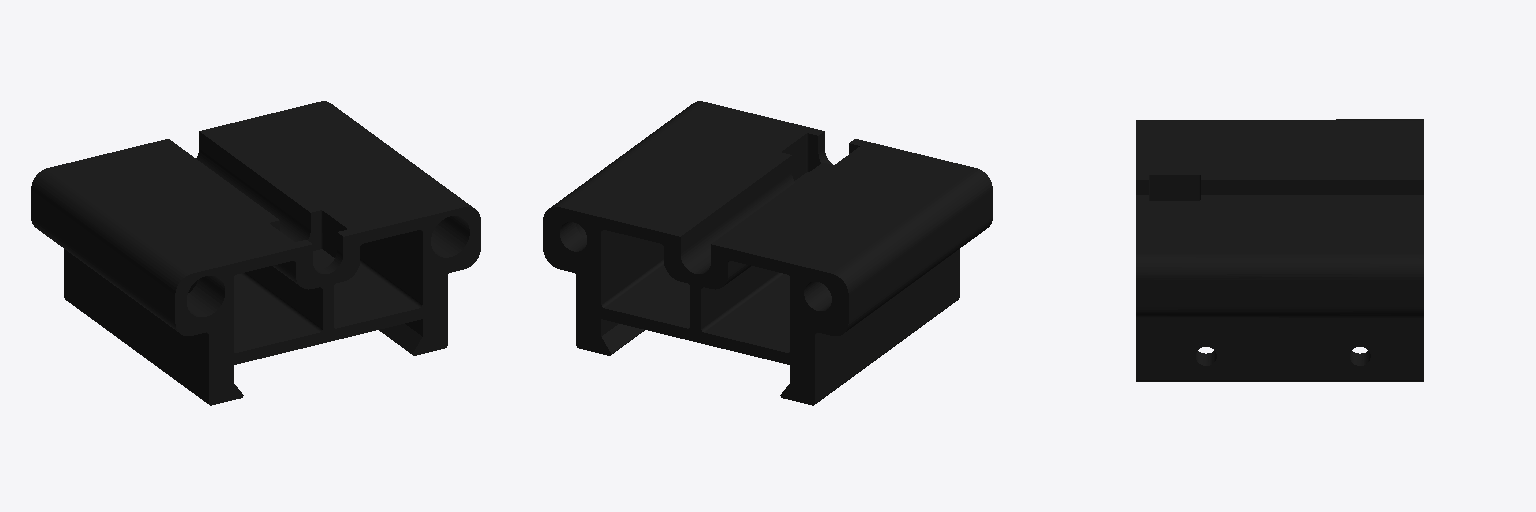
The model's file is axis_z.obj.
3 renders of one model, left to right at view 1: azimuth 30°, elevation 25°; view 2: azimuth 150°, elevation 25°; view 3: azimuth 270°, elevation 25°, orthographic.
Visible parts, largest first — view 1: NONE_12_.001; view 2: NONE_12_.001; view 3: NONE_12_.001.
Boxes of the visible parts, <box> form: NONE_12_.001: <box>31,101,480,405</box>; NONE_12_.001: <box>543,101,992,405</box>; NONE_12_.001: <box>1136,119,1423,381</box>.
Bounding box in the file's own units: 0.055 × 0.0235 × 0.045.